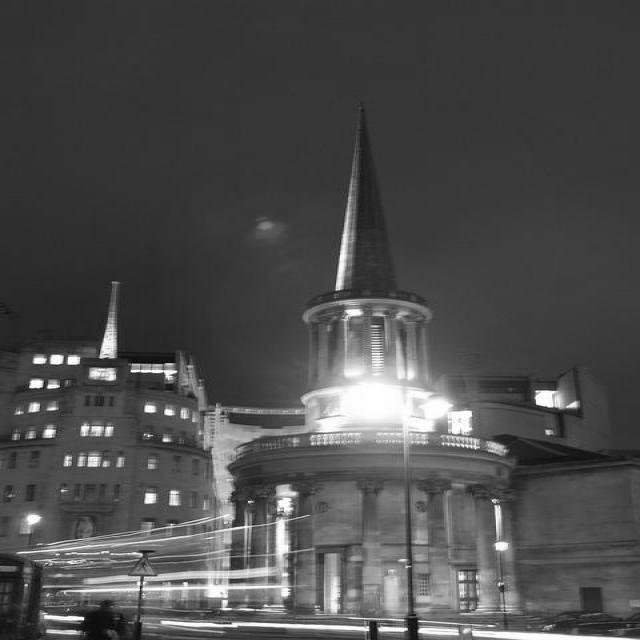vehicle: (536, 611, 626, 636), (625, 612, 639, 636)
